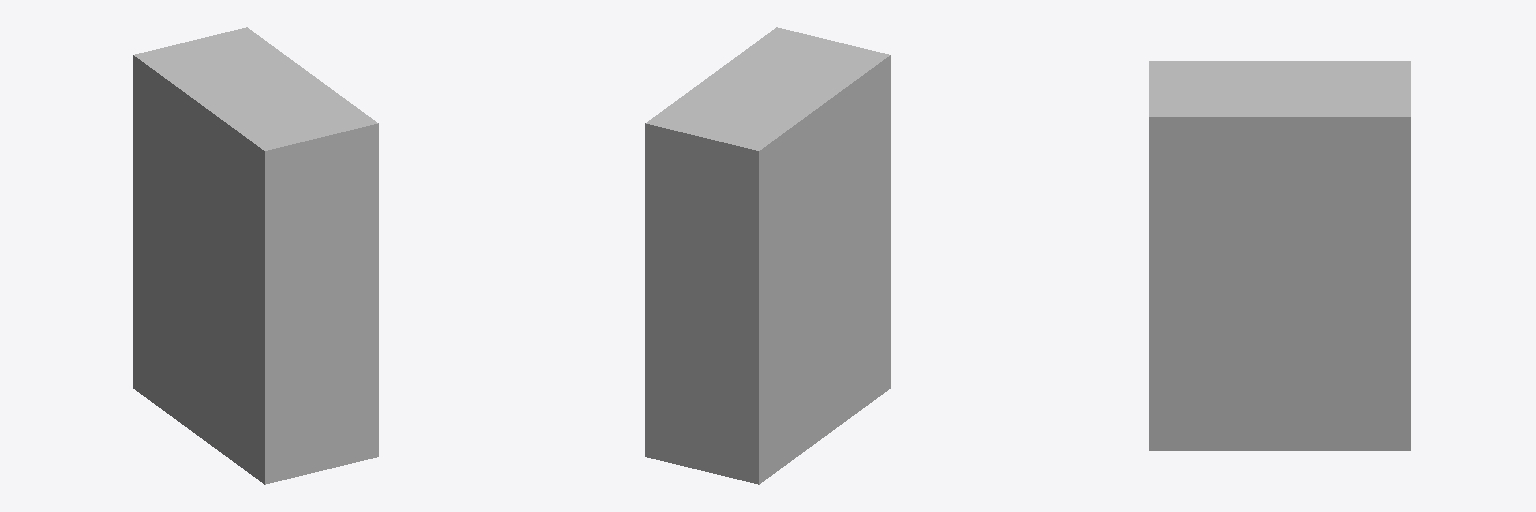
Rendered from Book2.obj.
3 views of the same model, side by side, from view 1: azimuth 30°, elevation 25°; view 2: azimuth 150°, elevation 25°; view 3: azimuth 270°, elevation 25° (orthographic).
Visible parts, largest first — view 1: Book2; view 2: Book2; view 3: Book2.
Part boxes in pixels (bbox=[...]): Book2: bbox=[133, 27, 378, 484]; Book2: bbox=[645, 27, 890, 484]; Book2: bbox=[1149, 61, 1410, 450].
Bounding box in the file's own units: 20 × 56 × 40.